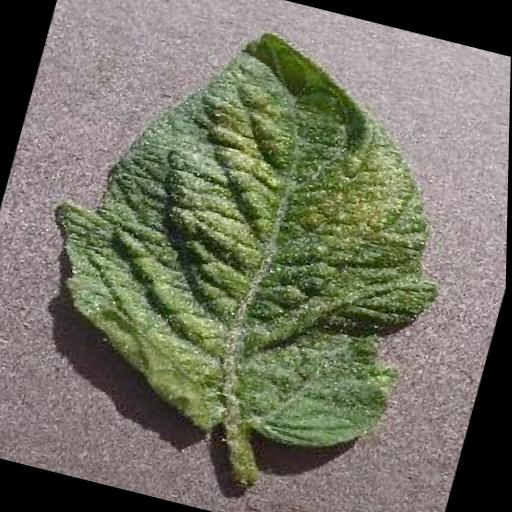Spider Mites: (6, 0, 493, 479)
